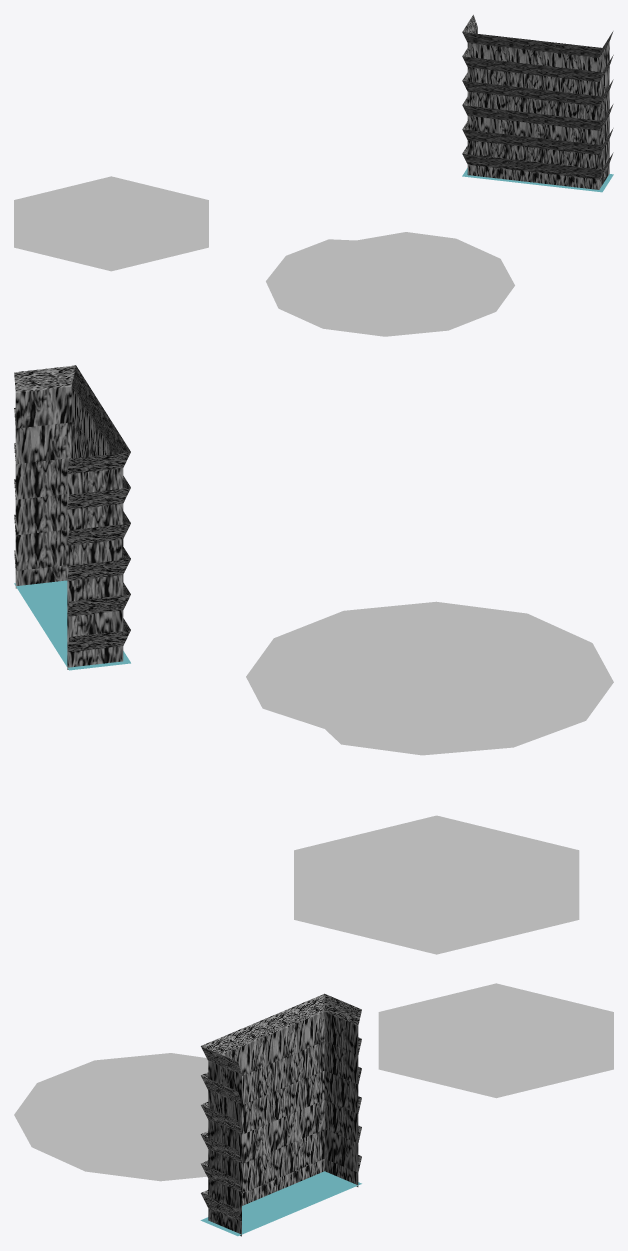
The model's file is sea.dae.
The picture shows the model from 3 angles, top to bottom: view 1: azimuth 30°, elevation 25°; view 2: azimuth 150°, elevation 25°; view 3: azimuth 270°, elevation 25°; orthographic projection. The views are drawn at different scales.
Parts seen in each view (by area): view 1: m1, m0; view 2: m1, m0; view 3: m1, m0.
Boxes of the visible parts, box(x1,y1,x2,y2) form: m1: box(14, 168, 613, 336); m0: box(462, 14, 613, 189); m1: box(14, 580, 613, 954); m0: box(14, 365, 130, 669); m1: box(14, 983, 613, 1236); m0: box(200, 993, 361, 1236).
Size of what is drawn, in the model's own units: 12907 by 4390 by 11258.
